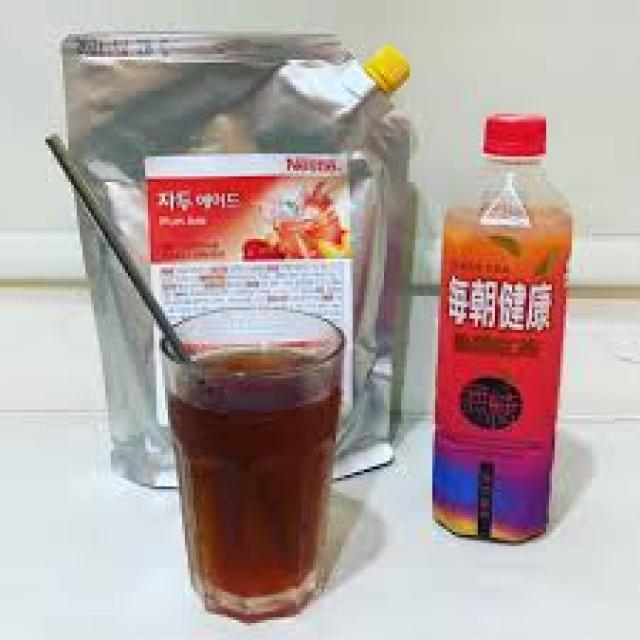MeiChou_BlackTea: (427, 105, 568, 558)
